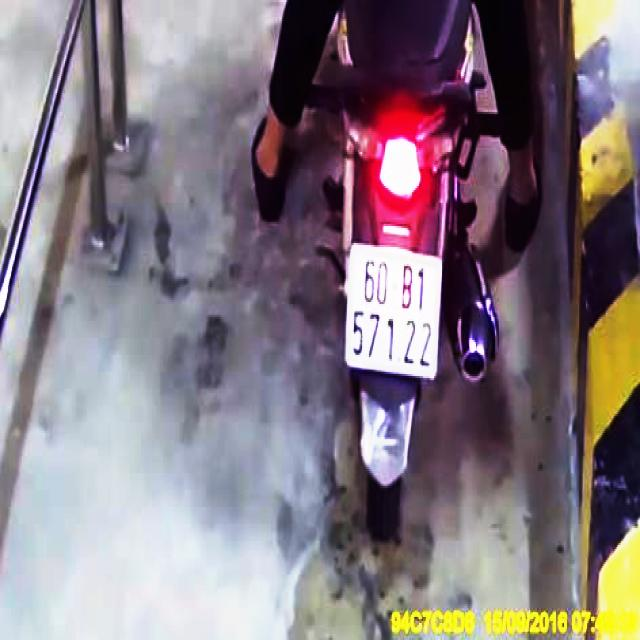license_plate: (348, 247, 445, 384)
